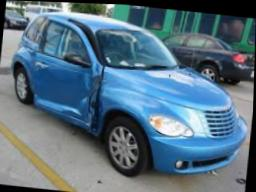Door: (46, 63, 104, 130)
